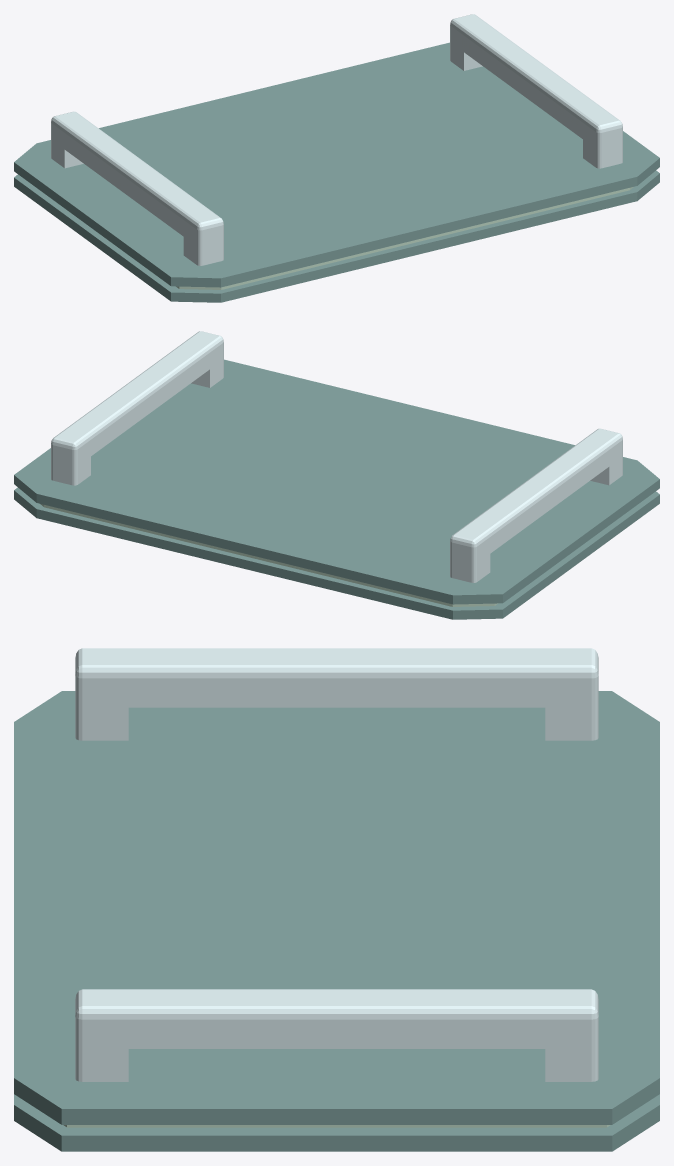
File: Elevator.fbx
3 renders of one model, top to bottom at view 1: azimuth 30°, elevation 25°; view 2: azimuth 150°, elevation 25°; view 3: azimuth 270°, elevation 25°, orthographic. The views are drawn at different scales.
Parts seen in each view (by area): view 1: 立方体; view 2: 立方体; view 3: 立方体.
Part boxes in pixels (left/top/right/bottom): 立方体: left=14, top=14, right=659, bottom=302; 立方体: left=14, top=331, right=659, bottom=619; 立方体: left=14, top=648, right=659, bottom=1151.
Size of the model in its own units: 1330 by 246 by 869.
